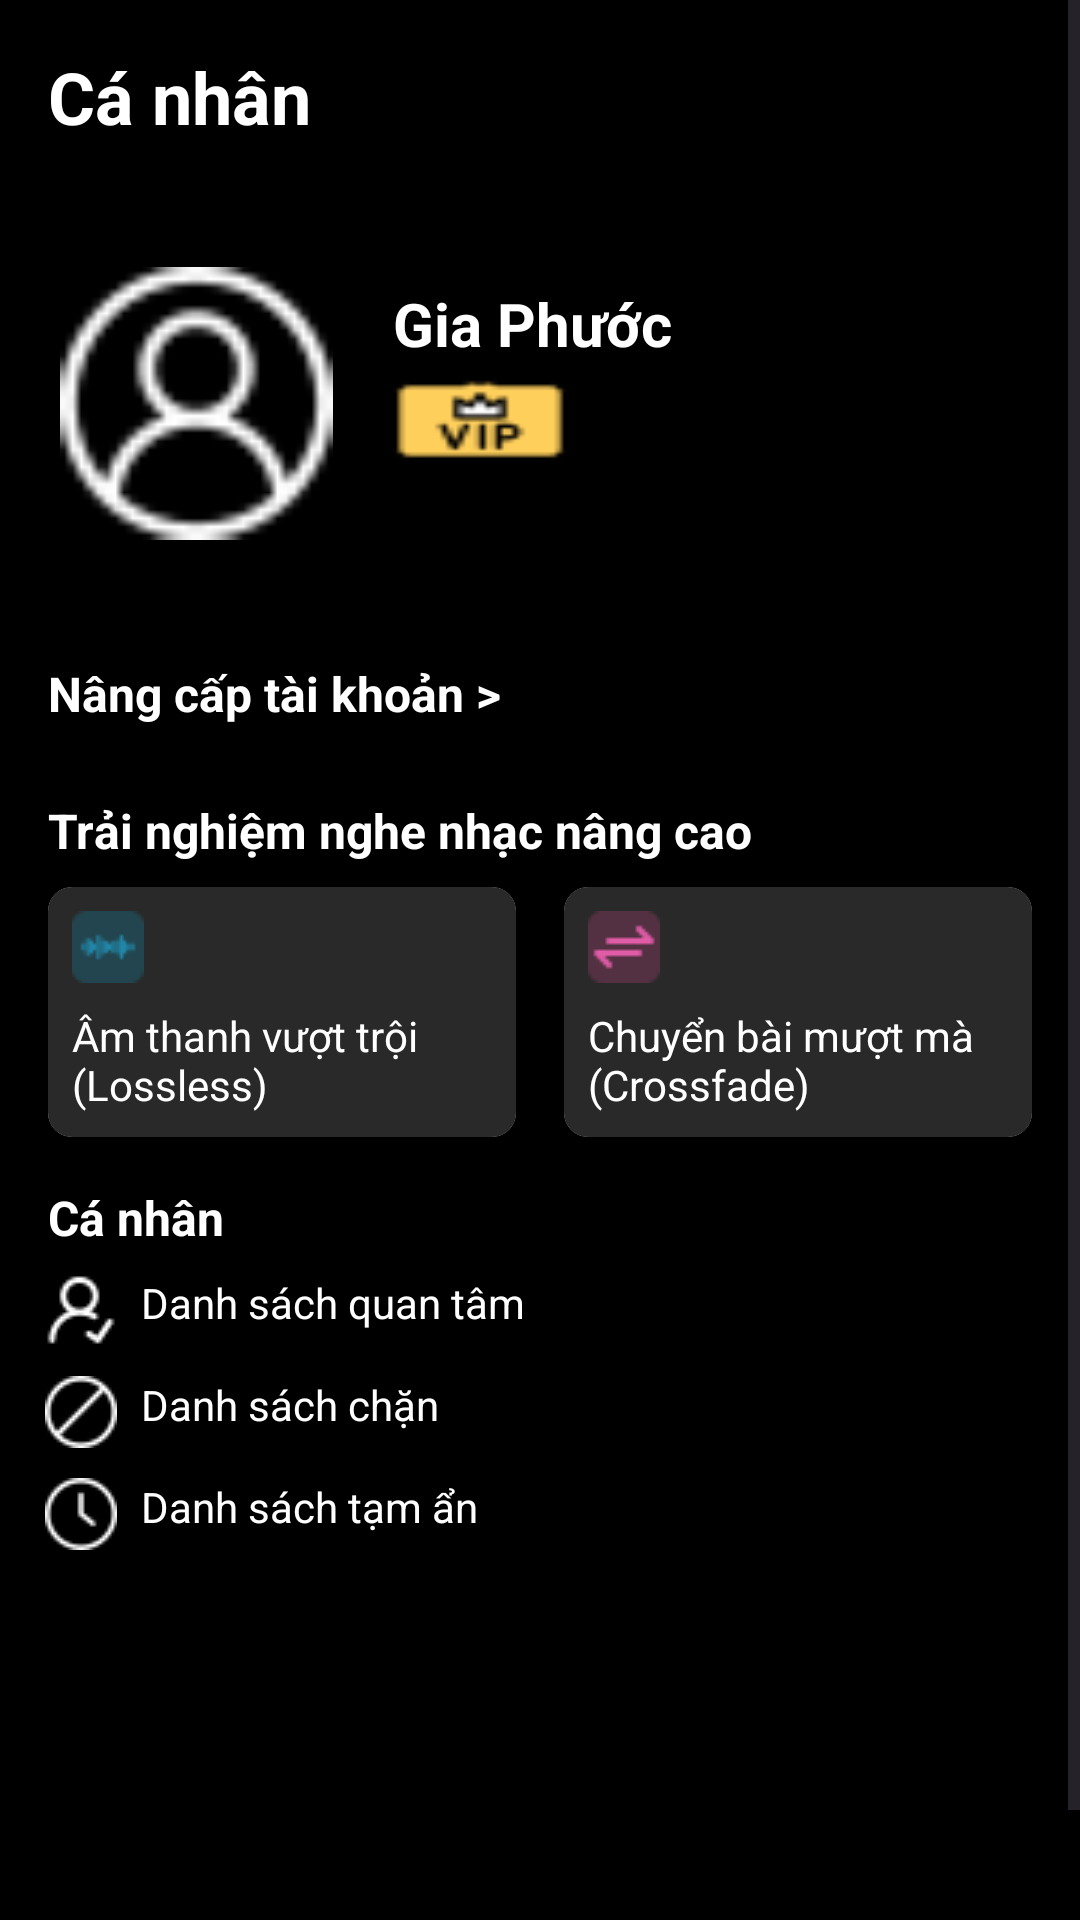

Named icons in this screenshot (1080px×1920px) and their centers, (x=x, y=y):
arrows: (x=624, y=947)
sound: (x=108, y=947)
user: (x=196, y=403)
